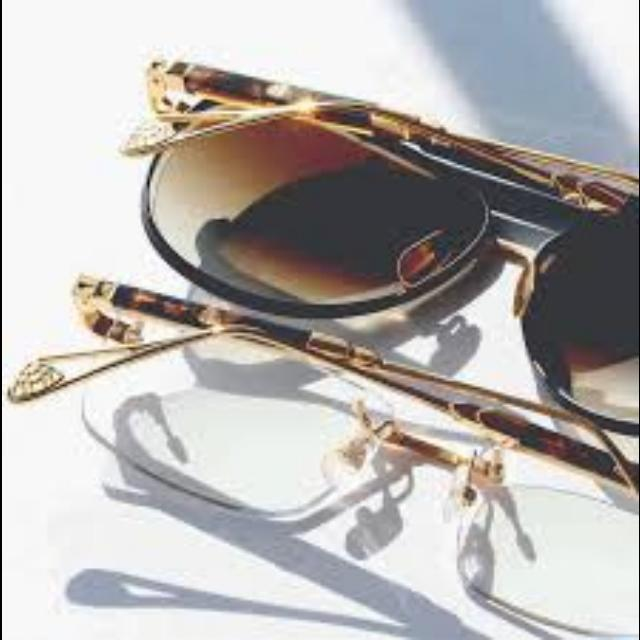glasses: (122, 26, 638, 407)
mask: (26, 238, 638, 640)
